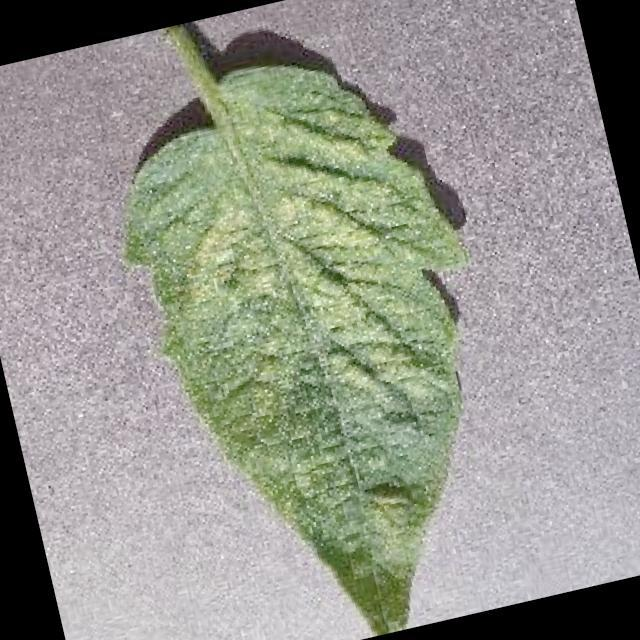Tomato spider mites leaf: (93, 28, 544, 640)
